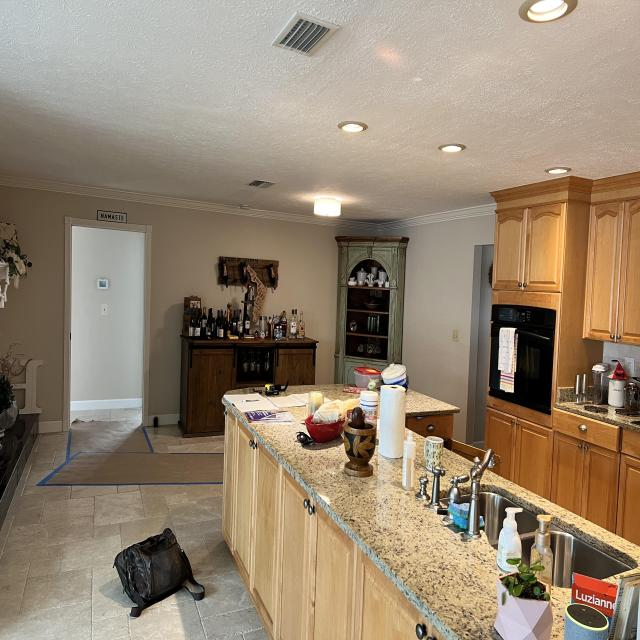Appliance_Oven: (490, 304, 557, 416)
Cabinet_Flat: (553, 410, 640, 460), (406, 414, 453, 447)
Cabinet_Raised_Panel: (222, 416, 445, 640), (486, 408, 640, 547), (582, 171, 640, 346), (492, 203, 564, 296)
Countertop_Granite: (253, 385, 501, 640), (481, 469, 640, 568), (556, 402, 640, 432), (534, 588, 573, 640), (441, 448, 474, 492), (407, 390, 460, 417), (409, 432, 426, 479)
